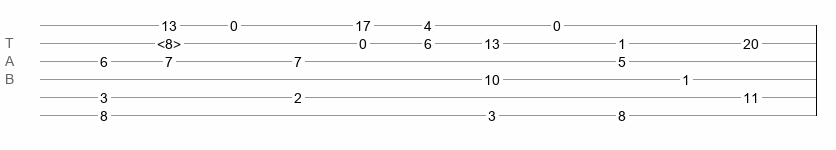0: (230, 18, 238, 28), (359, 36, 367, 46), (553, 18, 561, 28)
1: (618, 36, 626, 46), (682, 72, 690, 82)
10: (484, 72, 500, 82)
11: (743, 90, 759, 100)
13: (161, 18, 177, 28), (484, 36, 500, 46)
17: (355, 18, 371, 28)
2: (294, 90, 302, 100)
20: (743, 36, 759, 46)
3: (100, 90, 108, 100), (488, 108, 496, 118)
4: (424, 18, 432, 28)
5: (618, 54, 626, 64)
6: (100, 54, 108, 64), (424, 36, 432, 46)
7: (165, 54, 173, 64), (294, 54, 302, 64)
8: (100, 108, 108, 118), (618, 108, 626, 118)
harmonic: (157, 36, 181, 46)
